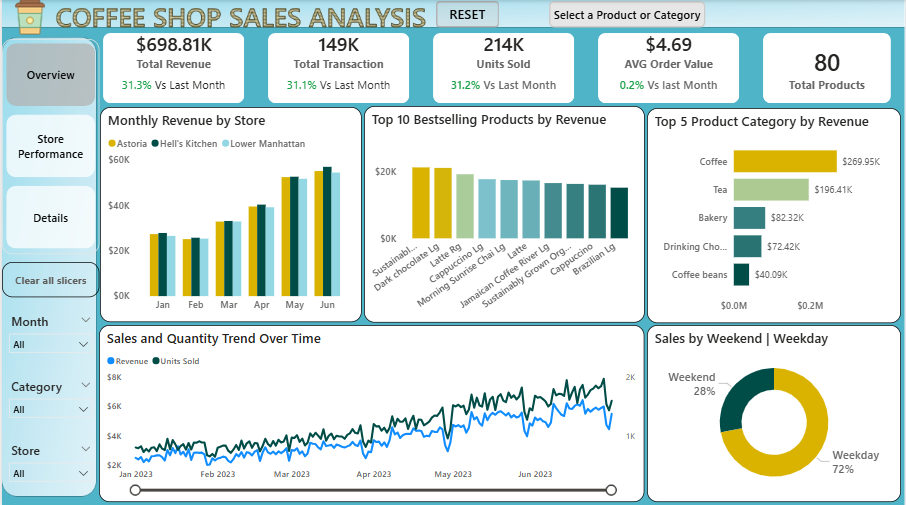

Layout of this report page (visuals, bound fields, positions):
{"tool":"powerbi","page":{"name":"Overview","canvas":[1280,720],"ordinal":0},"visuals":[{"type":"cardVisual","fields":{"Data":["DAX Measure.Total Revenue"]},"box":[122.7,27,240,139],"z":0,"group":"g1"},{"type":"lineChart","title":"Sales and Quantity Trend Over Time","fields":{"Y":["DAX Measure.Total Sales"],"Y2":["DAX Measure.Total QTY Sold"],"Category":["Date.Transaction Date"]},"box":[138,460.7,772.7,251],"z":0},{"type":"cardVisual","fields":{"Data":["DAX Measure.Total Transaction"]},"box":[356.5,27,240.2,139],"z":1000,"group":"g1"},{"type":"clusteredColumnChart","title":"Top 10 Bestselling Products by Revenue","fields":{"Category":["Product_Details.Product Detail"],"Y":["DAX Measure.Total Revenue"]},"box":[512.7,150.6,398,306.6],"z":1000},{"type":"cardVisual","fields":{"Data":["DAX Measure.AVG Order"]},"box":[824.5,27,240.2,139],"z":2000,"group":"g1"},{"type":"clusteredBarChart","title":"Top 5 Product Category by Revenue","fields":{"Category":["Product_Details.Product Category"],"Y":["DAX Measure.Total Revenue"]},"box":[914.3,152.4,360.3,304.8],"z":2000},{"type":"cardVisual","fields":{"Data":["DAX Measure.Total QTY Sold"]},"box":[590.5,27,240.2,139],"z":3000,"group":"g1"},{"type":"clusteredColumnChart","title":"Monthly Revenue by Store","fields":{"Y":["DAX Measure.Total Revenue"],"Category":["Date.Month Name Short"],"Series":["Store.Store Location"]},"box":[138.4,151.3,371,305.4],"z":3000},{"type":"cardVisual","fields":{"Data":["DAX Measure.Total Products"]},"box":[1058.5,27,221,139],"z":4000,"group":"g1"},{"type":"donutChart","title":"Sales by Weekend | Weekday","fields":{"Y":["DAX Measure.Total Revenue"],"Category":["Date.Day Type"]},"box":[914.3,460.7,360.3,251],"z":4000},{"type":"group","id":"g1","title":"KPI","box":[122.7,1.4,1156.8,164.6],"z":5000},{"type":"slicer","fields":{"Values":["Date.Month Name"]},"box":[0,438.1,138.4,91.3],"z":6000},{"type":"slicer","fields":{"Values":["Product_Details.Product Category"]},"box":[0,529.4,138.4,91.3],"z":7000},{"type":"slicer","fields":{"Values":["Store.Store Location"]},"box":[0,620.7,138.4,91.3],"z":8000},{"type":"actionButton","box":[0,371,138.4,49.9],"z":9000},{"type":"pageNavigator","box":[0,55.6,138,304.8],"z":10000},{"type":"actionButton","box":[774.6,1.4,221.7,37.5],"z":10001,"group":"g1"},{"type":"actionButton","box":[615,1.8,89.4,37.5],"z":11000}]}

Visuals, with their boxes in screenshot pixels (x1, y1, x2, y2), scaled from the page's 1280x720 canvas onto the 906x505 screenshot:
cardVisual - DAX Measure.Total Revenue: [left=87, top=19, right=257, bottom=116]
"Sales and Quantity Trend Over Time" lineChart: [left=98, top=323, right=645, bottom=499]
cardVisual - DAX Measure.Total Transaction: [left=252, top=19, right=422, bottom=116]
"Top 10 Bestselling Products by Revenue" clusteredColumnChart: [left=363, top=106, right=645, bottom=321]
cardVisual - DAX Measure.AVG Order: [left=584, top=19, right=754, bottom=116]
"Top 5 Product Category by Revenue" clusteredBarChart: [left=647, top=107, right=902, bottom=321]
cardVisual - DAX Measure.Total QTY Sold: [left=418, top=19, right=588, bottom=116]
"Monthly Revenue by Store" clusteredColumnChart: [left=98, top=106, right=361, bottom=320]
cardVisual - DAX Measure.Total Products: [left=749, top=19, right=905, bottom=116]
"Sales by Weekend | Weekday" donutChart: [left=647, top=323, right=902, bottom=499]
"KPI" group: [left=87, top=1, right=905, bottom=116]
slicer - Date.Month Name: [left=0, top=307, right=98, bottom=371]
slicer - Product_Details.Product Category: [left=0, top=371, right=98, bottom=435]
slicer - Store.Store Location: [left=0, top=435, right=98, bottom=499]
actionButton: [left=0, top=260, right=98, bottom=295]
pageNavigator: [left=0, top=39, right=98, bottom=253]
actionButton: [left=548, top=1, right=705, bottom=27]
actionButton: [left=435, top=1, right=499, bottom=28]
